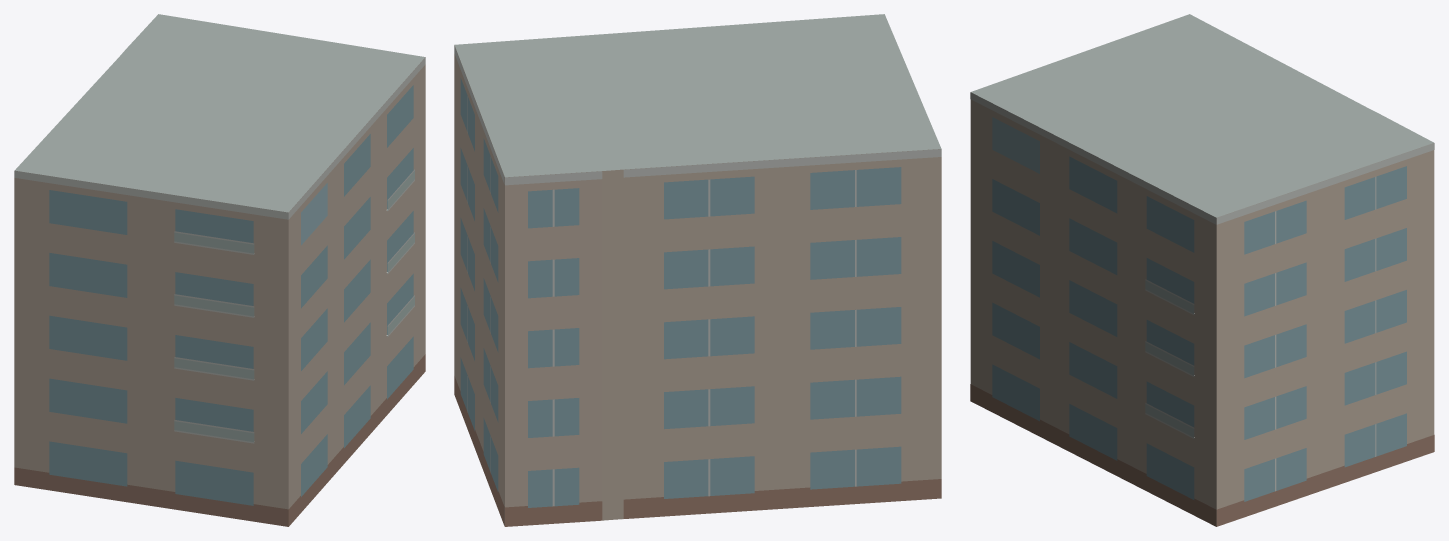
The model's file is survey-upis-32985327.glb.
3 views of the same model, side by side, from view 1: azimuth 30°, elevation 25°; view 2: azimuth 150°, elevation 25°; view 3: azimuth 270°, elevation 25° (orthographic). The views are drawn at different scales.
Parts seen in each view (by area): view 1: survey-upis-32985327.tmp; view 2: survey-upis-32985327.tmp; view 3: survey-upis-32985327.tmp.
Boxes of the visible parts, bbox=[...] form: survey-upis-32985327.tmp: bbox=[14, 14, 425, 526]; survey-upis-32985327.tmp: bbox=[454, 14, 941, 526]; survey-upis-32985327.tmp: bbox=[970, 14, 1434, 526].
Size of the model in its own units: 14.99 by 10.6 by 14.43.
